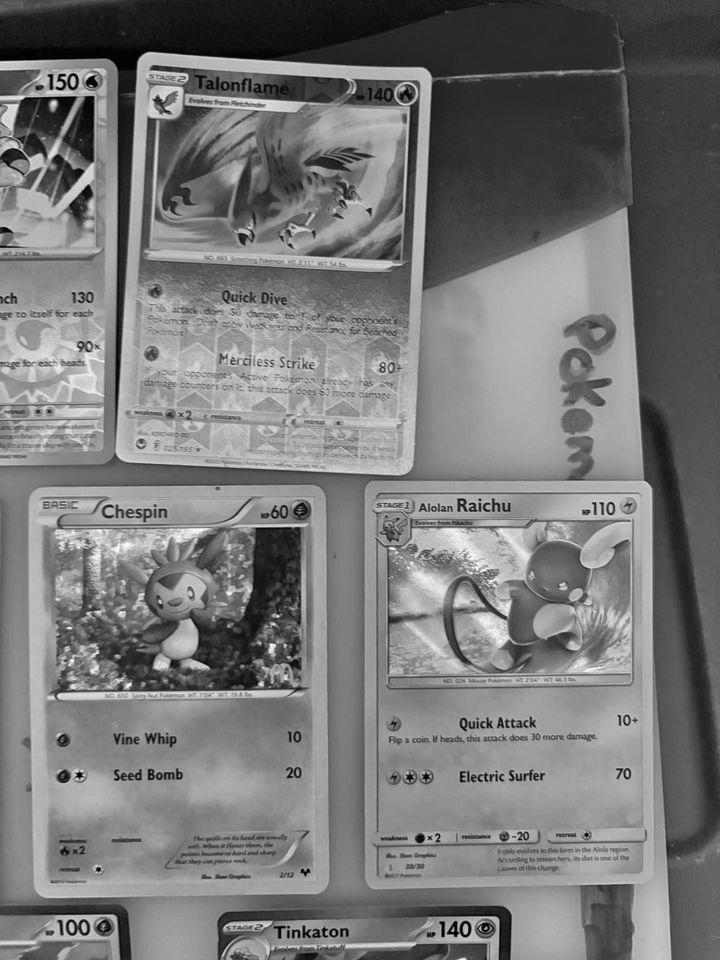card: (115, 50, 434, 476), (29, 483, 330, 899), (363, 480, 656, 890), (0, 58, 120, 467), (216, 906, 512, 960)
